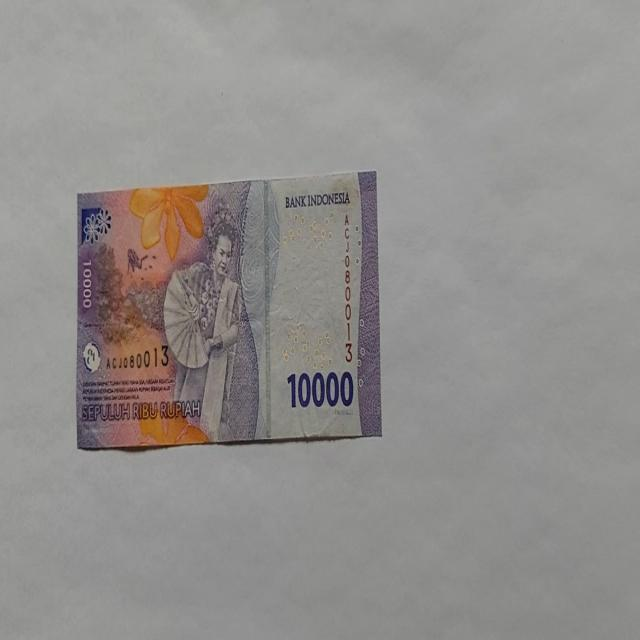sepuluh ribu rupiah: (75, 169, 382, 451)
